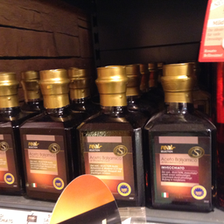vinegar: (142, 63, 223, 214), (77, 63, 149, 205), (13, 70, 80, 202)
